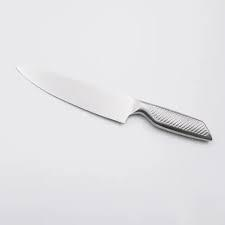Knife: (15, 63, 212, 142)
